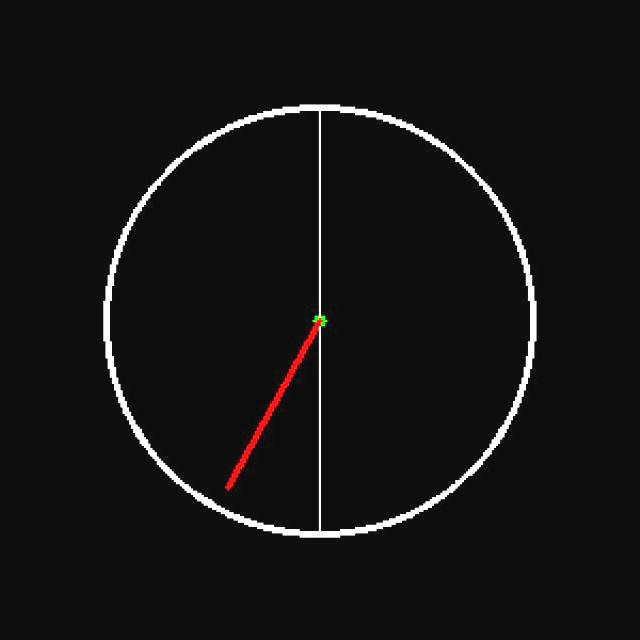Needle_Tip: (213, 424, 258, 517)
Needle_base: (289, 304, 347, 334)
